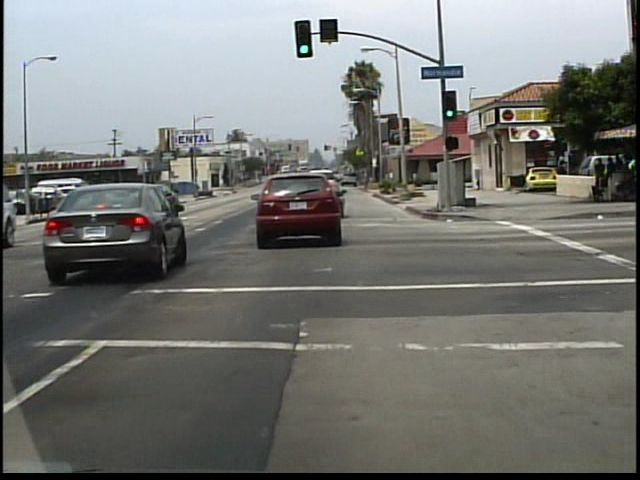person: (552, 158, 569, 197)
